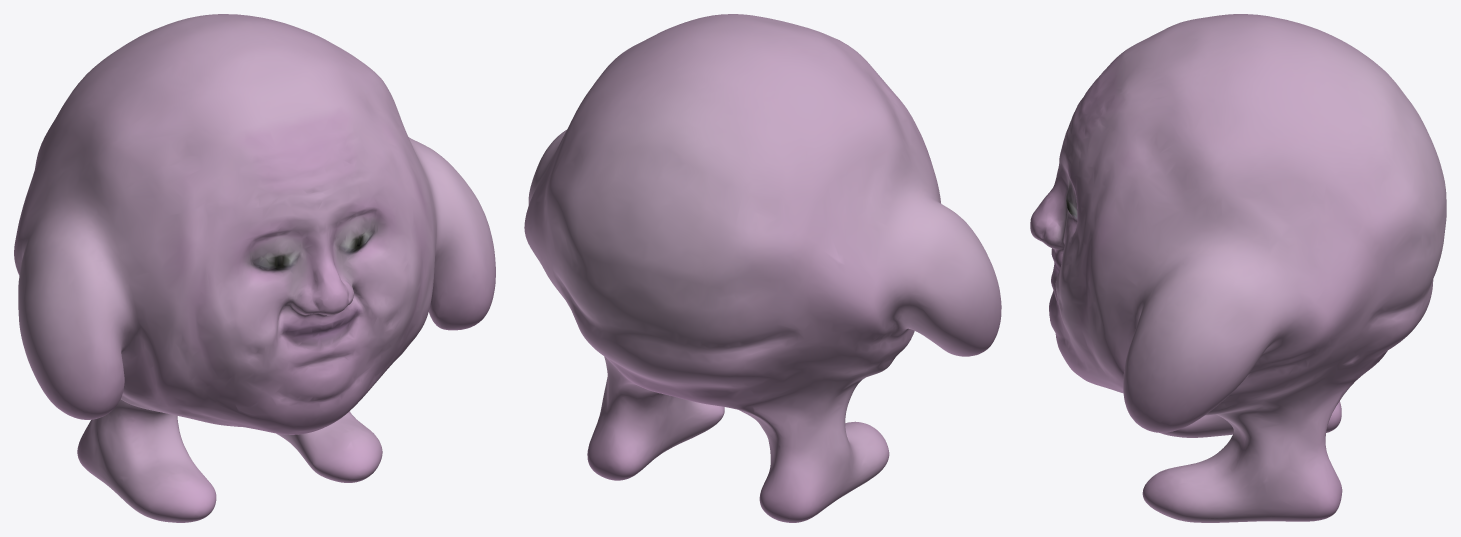
File: kirby.glb
3 views of the same model, side by side, from view 1: azimuth 30°, elevation 25°; view 2: azimuth 150°, elevation 25°; view 3: azimuth 270°, elevation 25° (orthographic).
Parts seen in each view (by area): view 1: yourMesh; view 2: yourMesh; view 3: yourMesh.
Part boxes in pixels (x1=…): yourMesh: x1=14, y1=14, x2=495, y2=522; yourMesh: x1=524, y1=14, x2=1001, y2=522; yourMesh: x1=1030, y1=14, x2=1446, y2=522.
Bounding box in the file's own units: 66.1 × 61.99 × 52.81.
